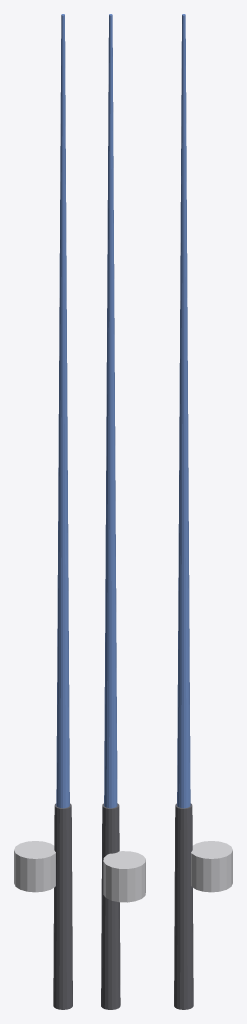
Rendered from rod.glb.
3 renders of one model, left to right at view 1: azimuth 90°, elevation 25°; view 2: azimuth 210°, elevation 25°; view 3: azimuth 270°, elevation 25°, orthographic.
Visible parts, largest first — view 1: rod; view 2: rod; view 3: rod.
Boxes of the visible parts, left/top/right/bottom form: rod: left=14, top=14, right=72, bottom=1009; rod: left=101, top=14, right=145, bottom=1009; rod: left=174, top=14, right=232, bottom=1009.
Size of the model in its own units: 0.07 by 1.78 by 0.096.
